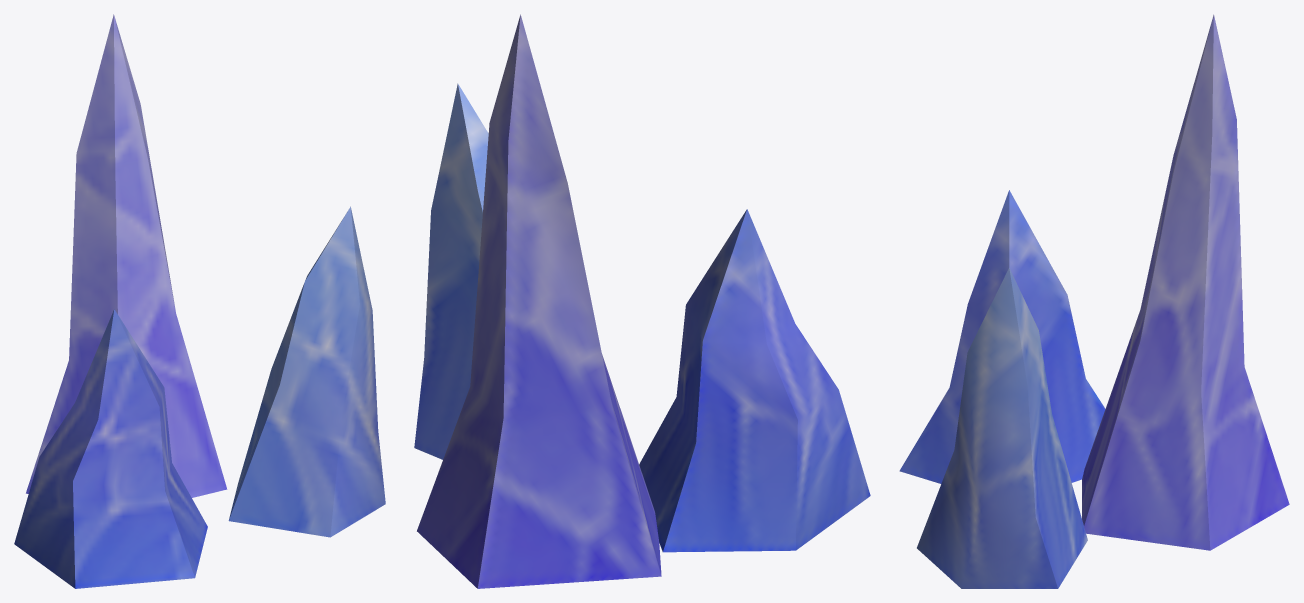
File: ice_prop_4.FBX
3 renders of one model, left to right at view 1: azimuth 30°, elevation 25°; view 2: azimuth 150°, elevation 25°; view 3: azimuth 270°, elevation 25°, orthographic. The views are drawn at different scales.
Visible parts, largest first — view 1: Object033; view 2: Object033; view 3: Object033.
Part boxes in pixels (bbox=[...]): Object033: bbox=[14, 14, 385, 588]; Object033: bbox=[414, 14, 870, 588]; Object033: bbox=[899, 14, 1289, 588].
Bounding box in the file's own units: 40.86 × 38.94 × 53.95.
